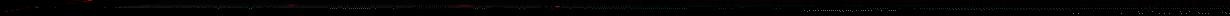Blue cone: (27, 7, 30, 8), (16, 9, 19, 10)
Yellow cone: (285, 4, 298, 7), (620, 6, 627, 8)
